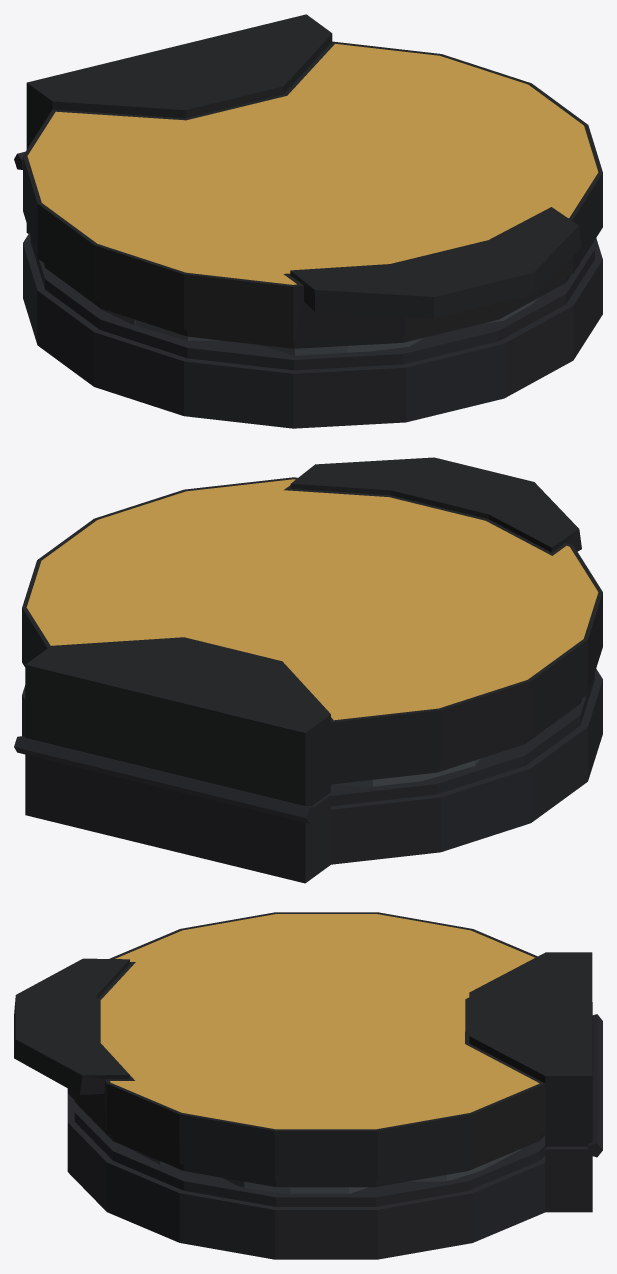
File: wafflemakers_01_D.gltf
3 renders of one model, top to bottom at view 1: azimuth 30°, elevation 25°; view 2: azimuth 150°, elevation 25°; view 3: azimuth 270°, elevation 25°, orthographic. The views are drawn at different scales.
Visible parts, largest first — view 1: Capforwafflemakers_01_D, wafflemakers_01_D; view 2: Capforwafflemakers_01_D, wafflemakers_01_D; view 3: Capforwafflemakers_01_D, wafflemakers_01_D.
Boxes of the visible parts, left/top/right/bottom form: Capforwafflemakers_01_D: left=23, top=14, right=602, bottom=348; wafflemakers_01_D: left=14, top=152, right=602, bottom=428; Capforwafflemakers_01_D: left=22, top=457, right=602, bottom=806; wafflemakers_01_D: left=14, top=669, right=602, bottom=883; Capforwafflemakers_01_D: left=14, top=912, right=592, bottom=1187; wafflemakers_01_D: left=67, top=1014, right=602, bottom=1259.
Bounding box in the file's own units: 0.2298 × 0.0668 × 0.2615.
1 material, 1 textured.
